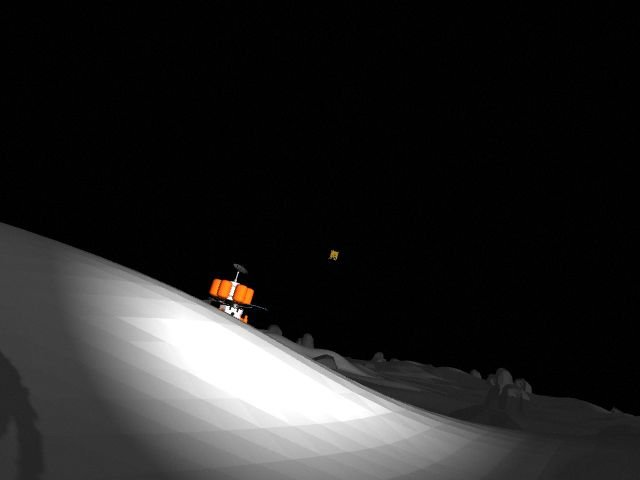homebase: (193, 260, 271, 346)
